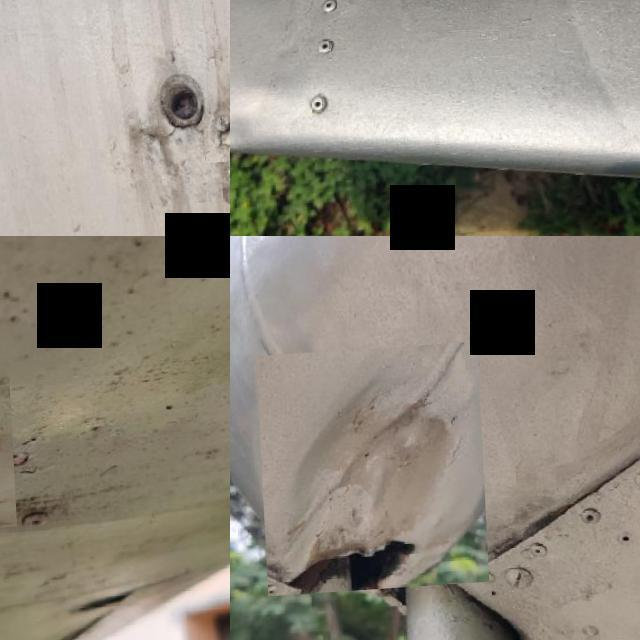Crack: (199, 118, 230, 168)
Dent: (254, 347, 485, 599), (483, 0, 640, 151), (393, 0, 543, 38), (230, 85, 271, 179)
